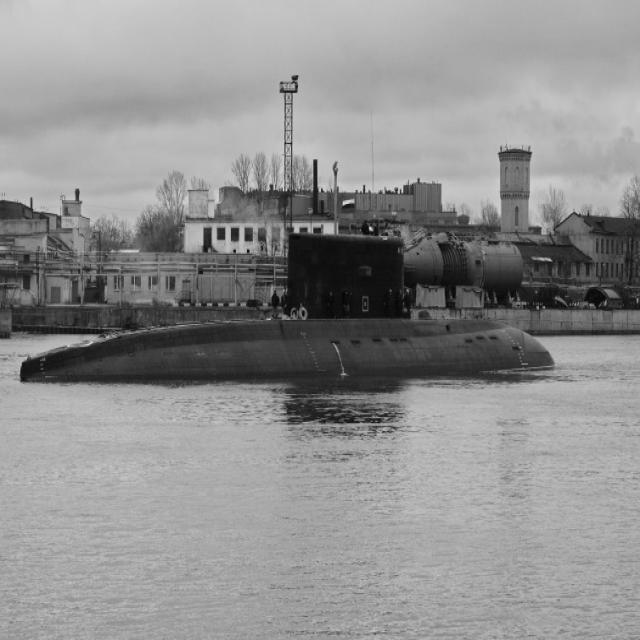submarine: (22, 233, 566, 385)
